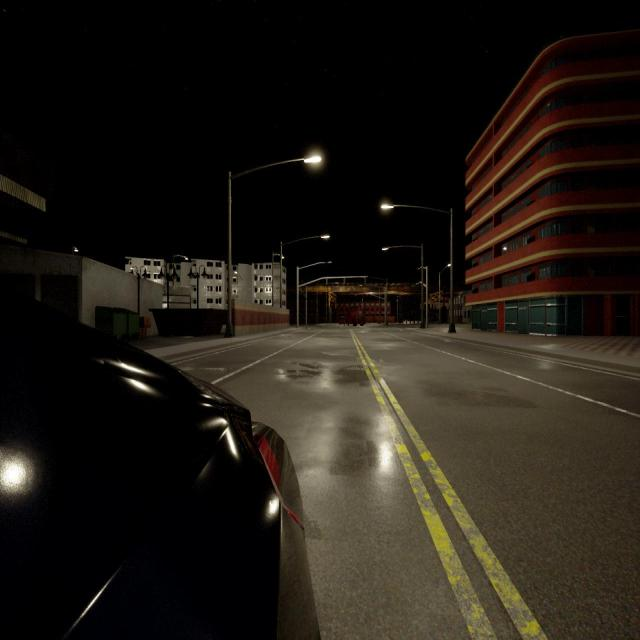Vehicle: (0, 304, 313, 638), (351, 309, 366, 326), (338, 310, 349, 326)
traffic_light: (326, 278, 328, 284), (344, 278, 346, 284), (364, 278, 366, 283), (365, 293, 368, 296), (355, 292, 357, 296)
